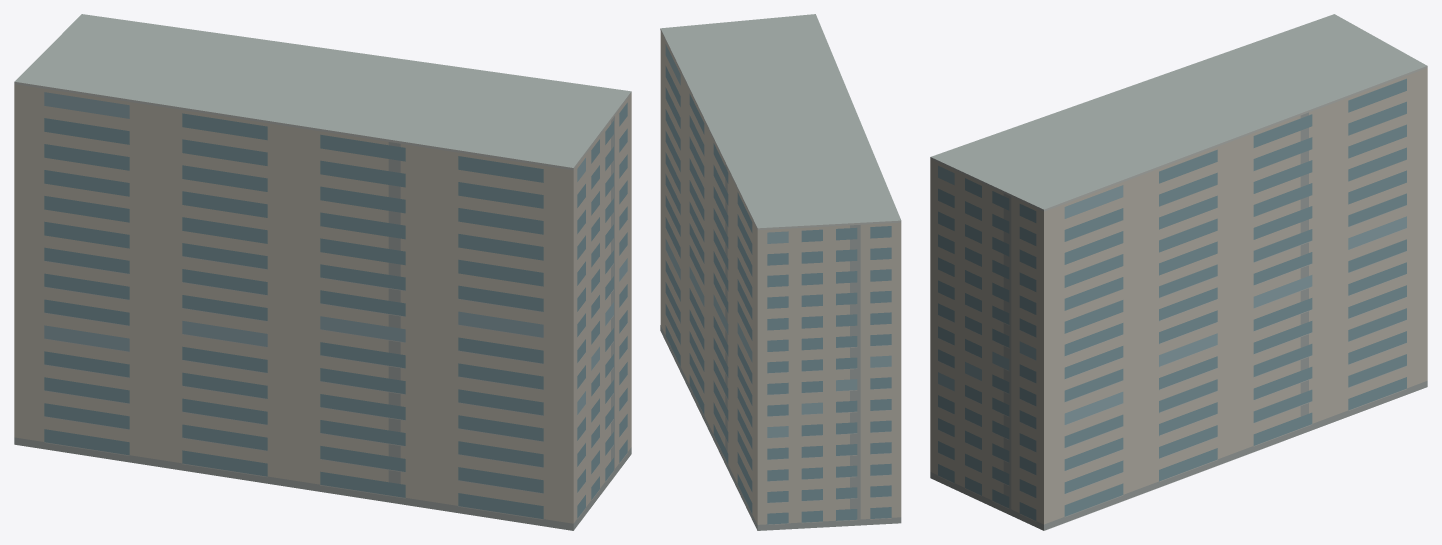
The model's file is residential-4c4da028-2315-4718-b1c4-64d8f9d1f8d3.glb.
The picture shows the model from 3 angles, left to right: view 1: azimuth 30°, elevation 25°; view 2: azimuth 150°, elevation 25°; view 3: azimuth 270°, elevation 25°; orthographic projection. The views are drawn at different scales.
Visible parts, largest first — view 1: residential-4c4da028-2315-4718-b1c4-64d8f9d1f8d3.tmp; view 2: residential-4c4da028-2315-4718-b1c4-64d8f9d1f8d3.tmp; view 3: residential-4c4da028-2315-4718-b1c4-64d8f9d1f8d3.tmp.
Part boxes in pixels (x1,y1,x2,y2): residential-4c4da028-2315-4718-b1c4-64d8f9d1f8d3.tmp: (14, 14, 631, 530); residential-4c4da028-2315-4718-b1c4-64d8f9d1f8d3.tmp: (660, 14, 901, 530); residential-4c4da028-2315-4718-b1c4-64d8f9d1f8d3.tmp: (930, 14, 1427, 530).
Bounding box in the file's own units: 48.34 × 37 × 51.88.
